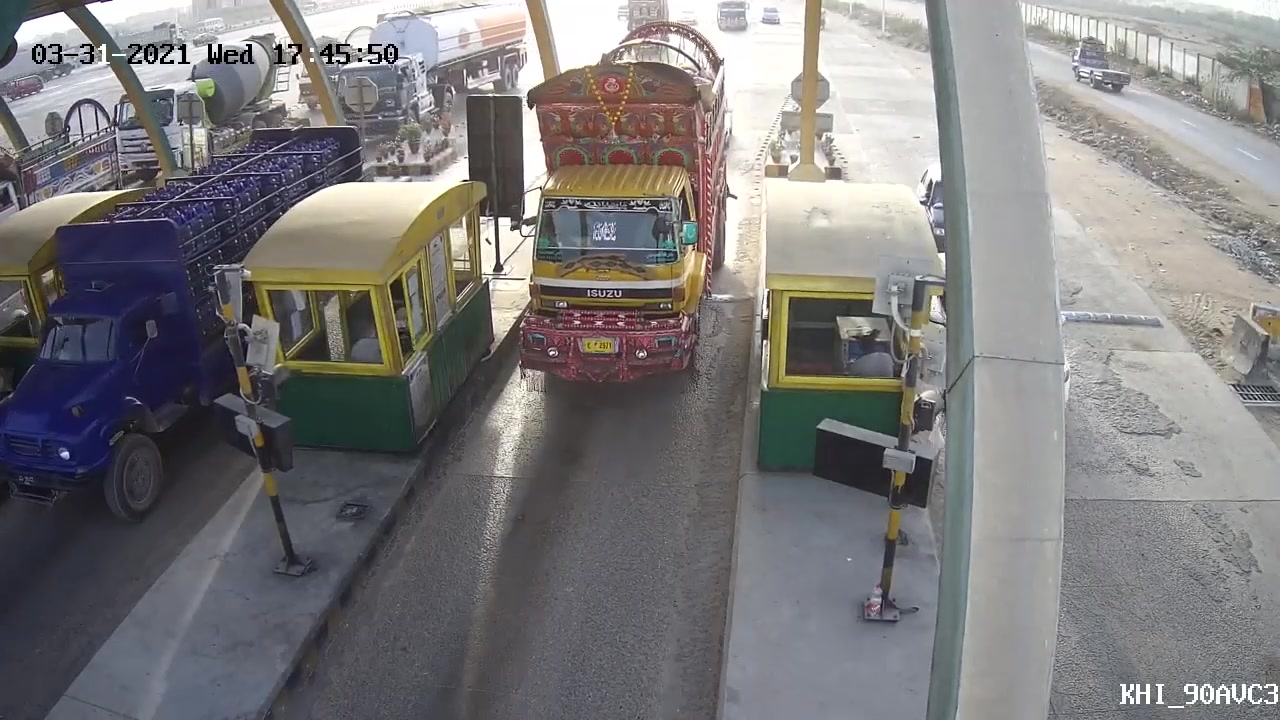F5: (486, 60, 724, 418)
